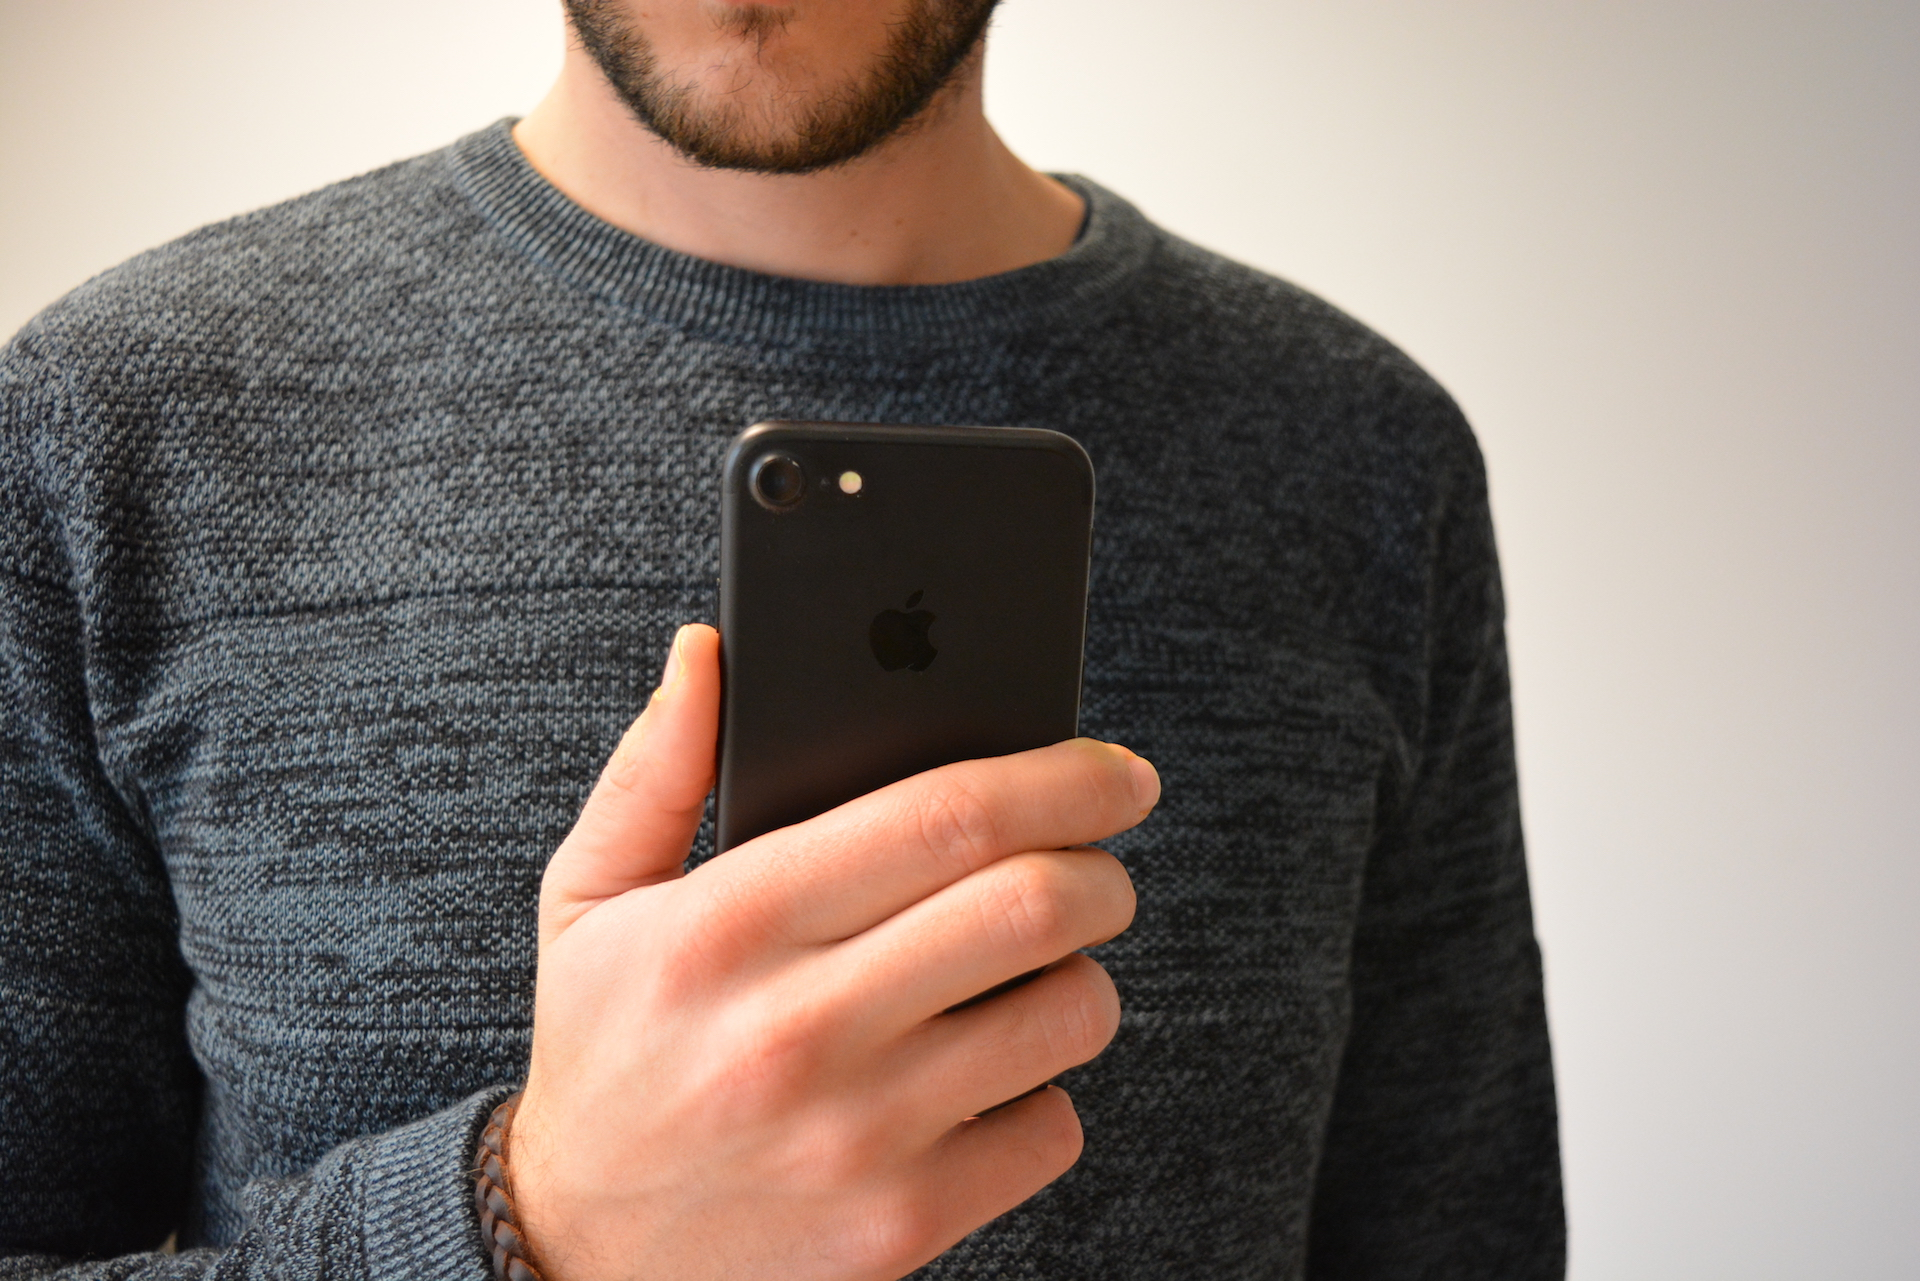smartphone: (708, 412, 1101, 865)
